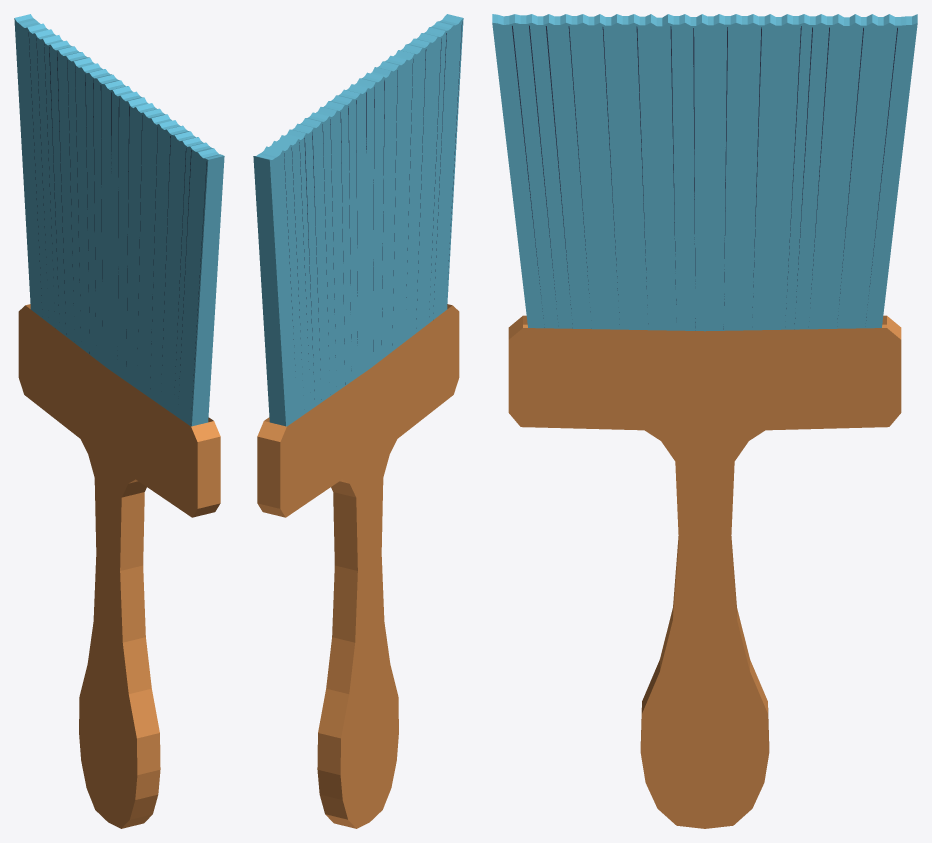
The model's file is Brush.fbx.
3 renders of one model, left to right at view 1: azimuth 30°, elevation 25°; view 2: azimuth 150°, elevation 25°; view 3: azimuth 270°, elevation 25°, orthographic. The views are drawn at different scales.
Visible parts, largest first — view 1: Куб; view 2: Куб; view 3: Куб.
Boxes of the visible parts, x1,y1,x2,y2 form: Куб: [14, 14, 224, 828]; Куб: [253, 14, 463, 828]; Куб: [492, 14, 917, 828].
Bounding box in the file's own units: 1.26 × 38.18 × 18.31.
